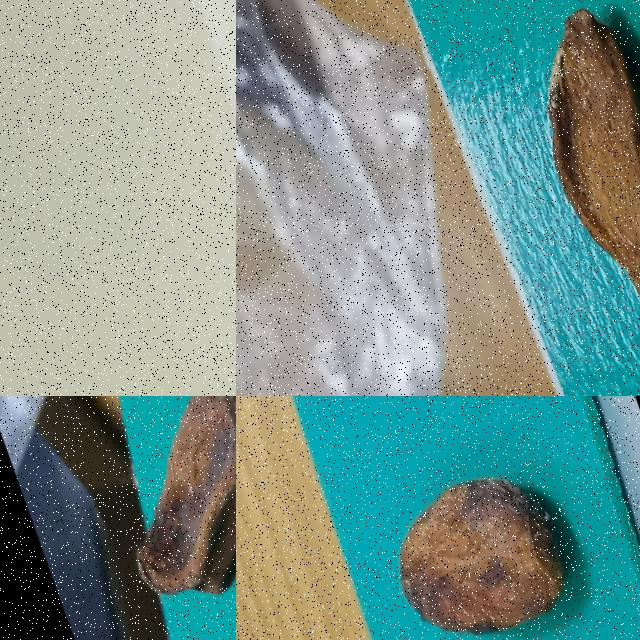Fine_cocoabeans: (338, 396, 639, 639)
Flat_cocoabeans: (453, 0, 639, 395), (55, 396, 235, 639), (161, 0, 235, 327)
